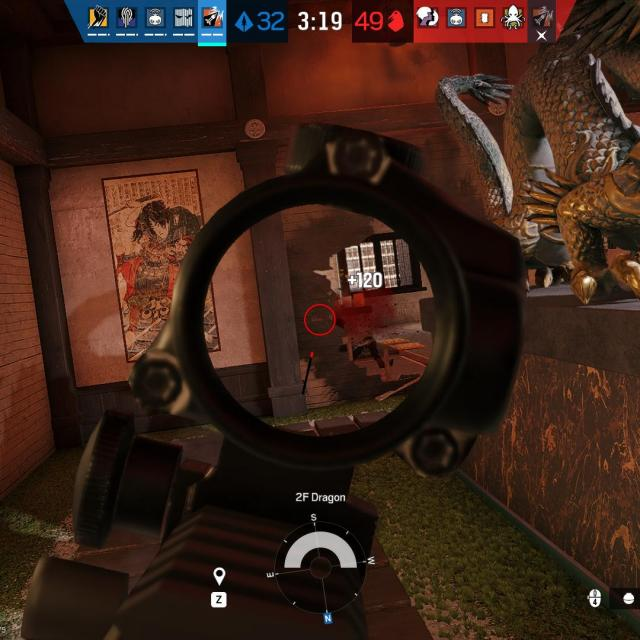Character: (348, 333, 390, 370)
